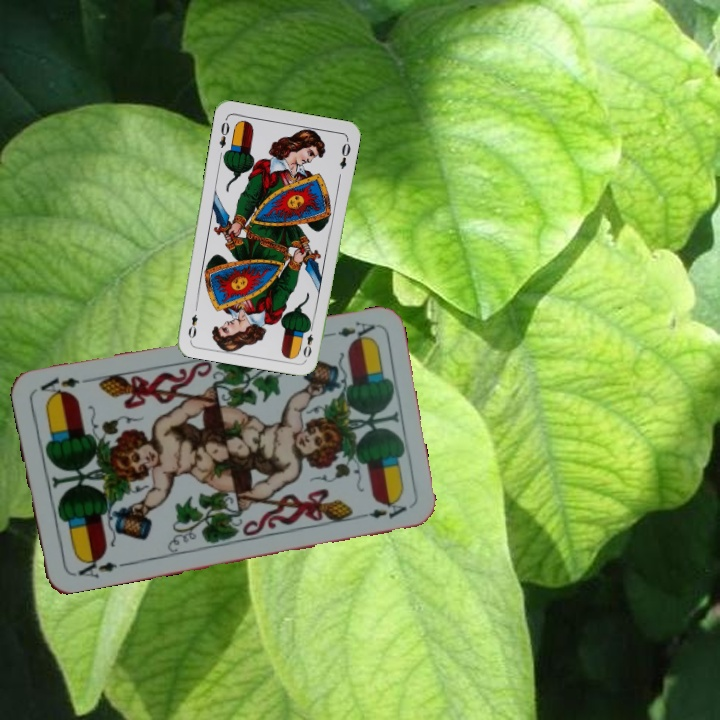EA: (68, 551, 127, 581), (320, 317, 378, 346)
EO: (299, 320, 316, 360), (215, 114, 232, 150)
